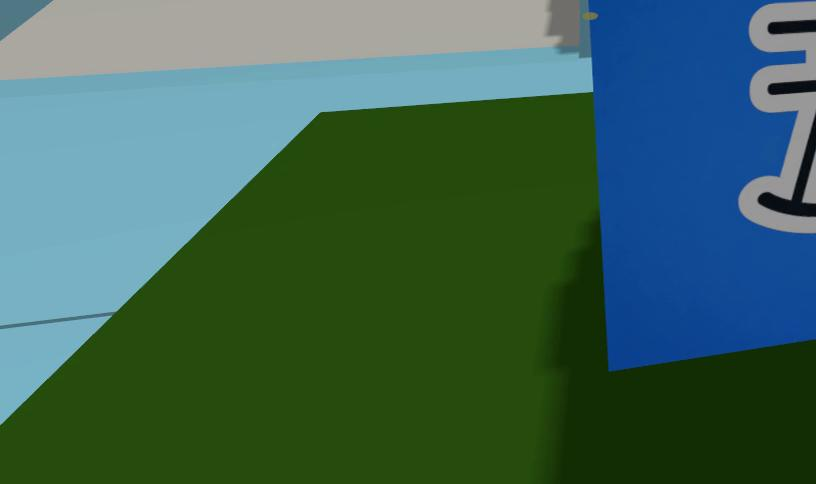KFS_REAL: (587, 0, 816, 368), (738, 2, 816, 233)
